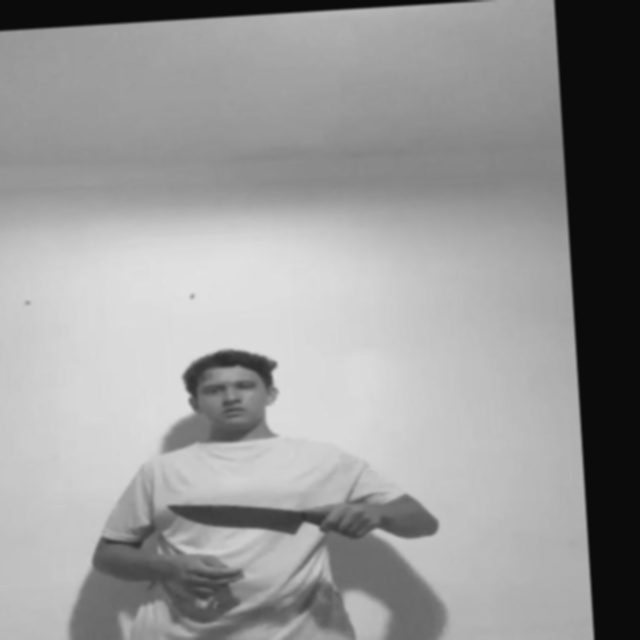Sharp-Object: (163, 496, 307, 541)
